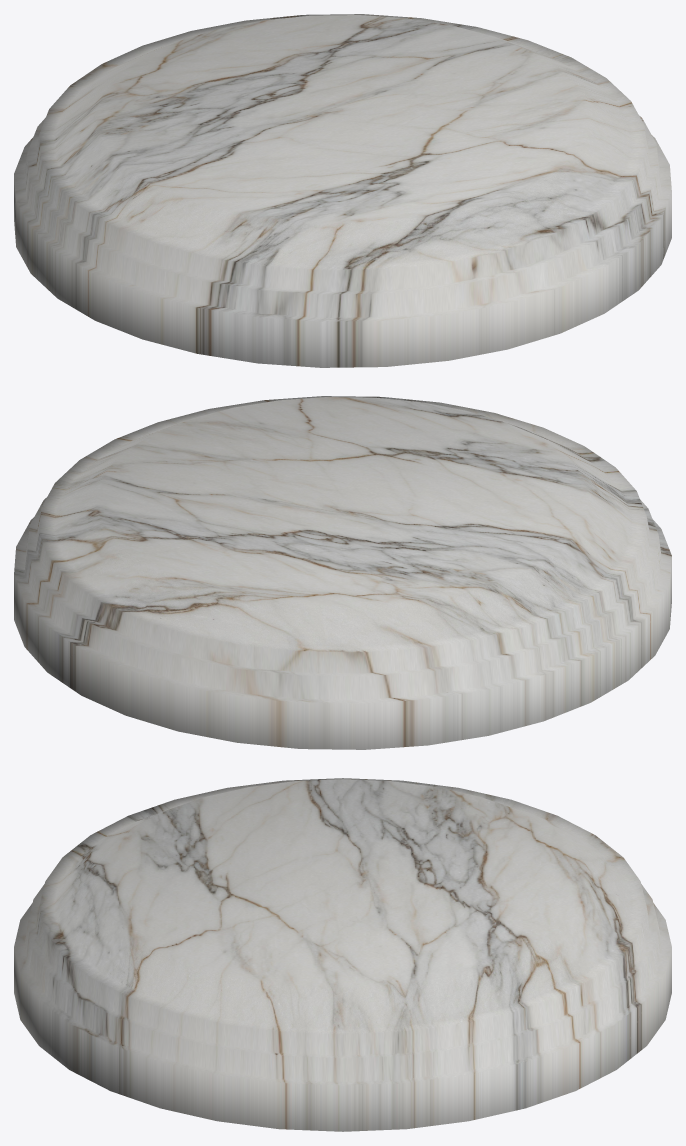
The model's file is Podium1.fbx.
The picture shows the model from 3 angles, top to bottom: view 1: azimuth 30°, elevation 25°; view 2: azimuth 150°, elevation 25°; view 3: azimuth 270°, elevation 25°; orthographic projection.
Parts seen in each view (by area): view 1: Circle; view 2: Circle; view 3: Circle.
Boxes of the visible parts, x1,y1,x2,y2 form: Circle: [14, 14, 671, 367]; Circle: [14, 396, 671, 749]; Circle: [14, 778, 671, 1131].
Bounding box in the file's own units: 1300 × 239 × 1300.
